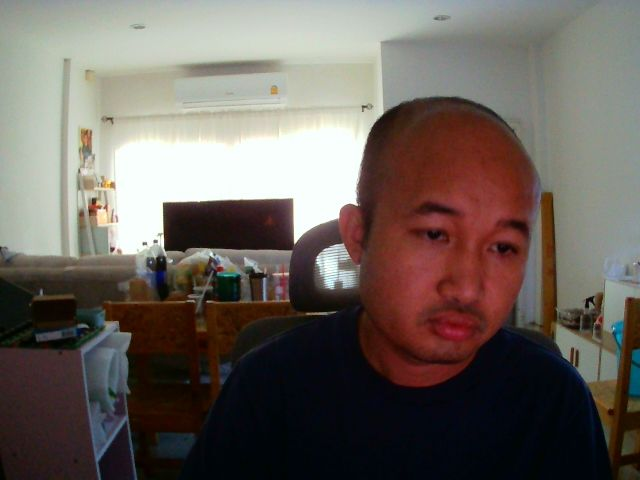face: (352, 104, 542, 368)
